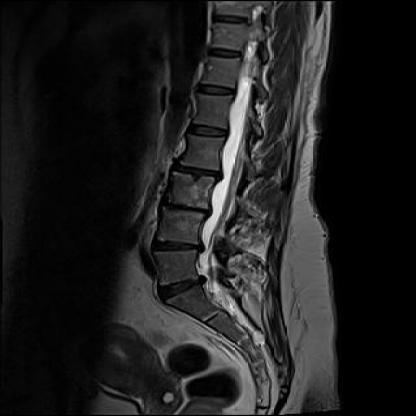Degenerative Disc Diseaserotation: (157, 276, 203, 298), (173, 164, 219, 182), (162, 200, 208, 214)
Disc Herniationrotation: (174, 164, 219, 180), (162, 200, 209, 215), (156, 238, 198, 254)
